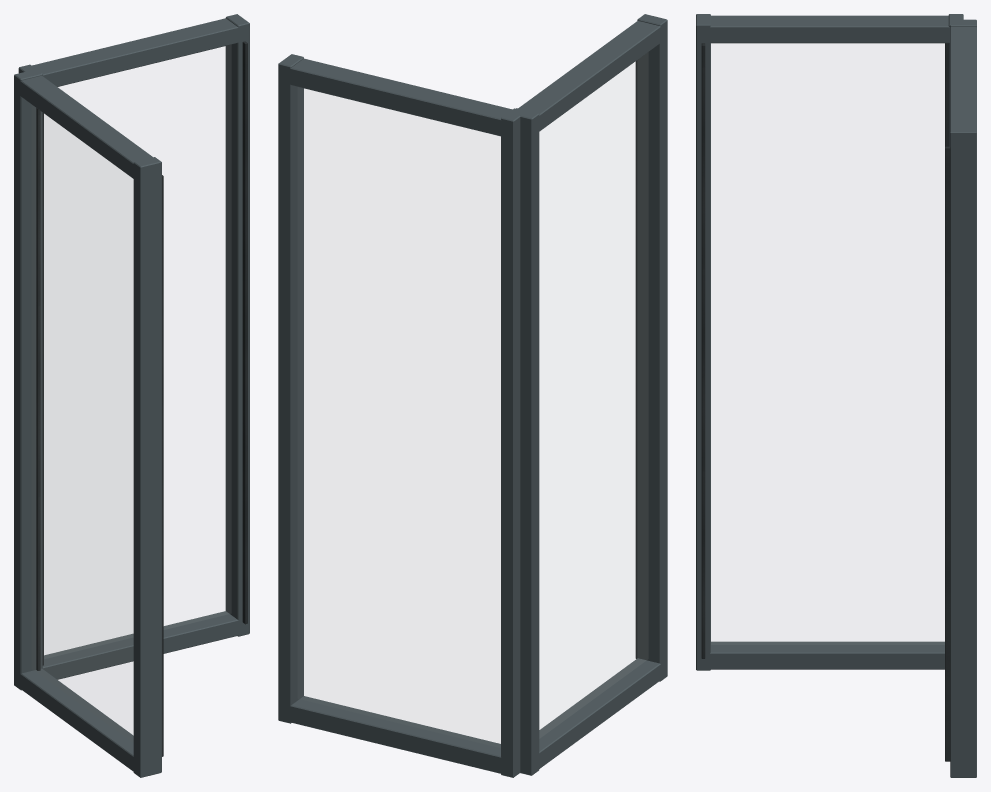
Rendered from GlassCorner.glb.
3 renders of one model, left to right at view 1: azimuth 30°, elevation 25°; view 2: azimuth 150°, elevation 25°; view 3: azimuth 270°, elevation 25°, orthographic. The views are drawn at different scales.
Visible parts, largest first — view 1: GlassCorner__BlackenedSteel__mesh, GlassCorner__SmokedArchitecturalGlass__mesh, GlassCorner__Powdercoat__mesh; view 2: GlassCorner__BlackenedSteel__mesh, GlassCorner__Powdercoat__mesh; view 3: GlassCorner__BlackenedSteel__mesh, GlassCorner__Powdercoat__mesh.
Boxes of the visible parts, x1,y1,x2,y2 form: GlassCorner__BlackenedSteel__mesh: (14, 14, 249, 777); GlassCorner__SmokedArchitecturalGlass__mesh: (44, 114, 133, 658); GlassCorner__Powdercoat__mesh: (36, 41, 247, 756); GlassCorner__BlackenedSteel__mesh: (278, 14, 667, 777); GlassCorner__Powdercoat__mesh: (635, 60, 637, 658); GlassCorner__BlackenedSteel__mesh: (696, 14, 976, 777); GlassCorner__Powdercoat__mesh: (701, 43, 950, 761).
Bounding box in the file's own units: 1.26 × 3.2 × 1.26.
Materials: 3 (1 with a texture image).
